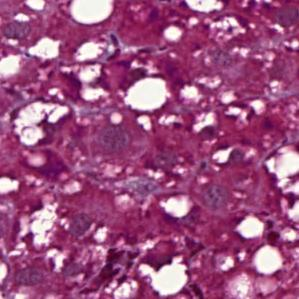ballooning: (10, 99, 72, 152)
